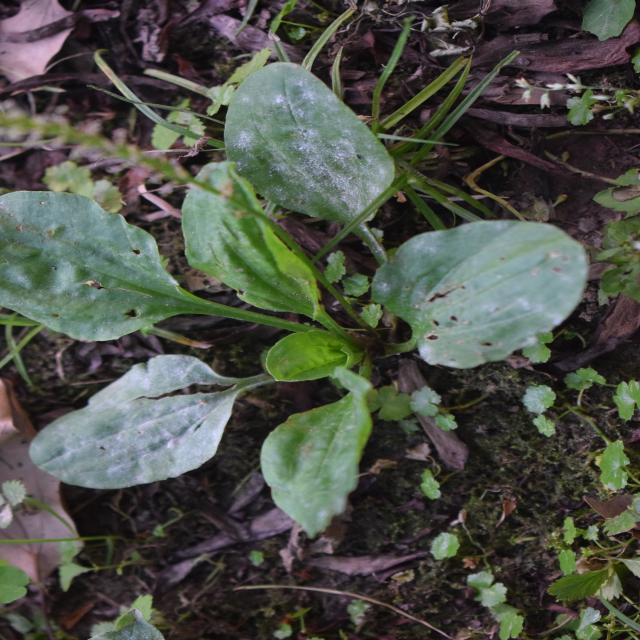plantain: (144, 17, 528, 585)
